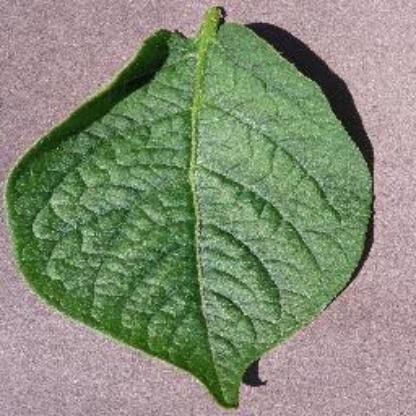Healthy-plant: (8, 9, 376, 410)
